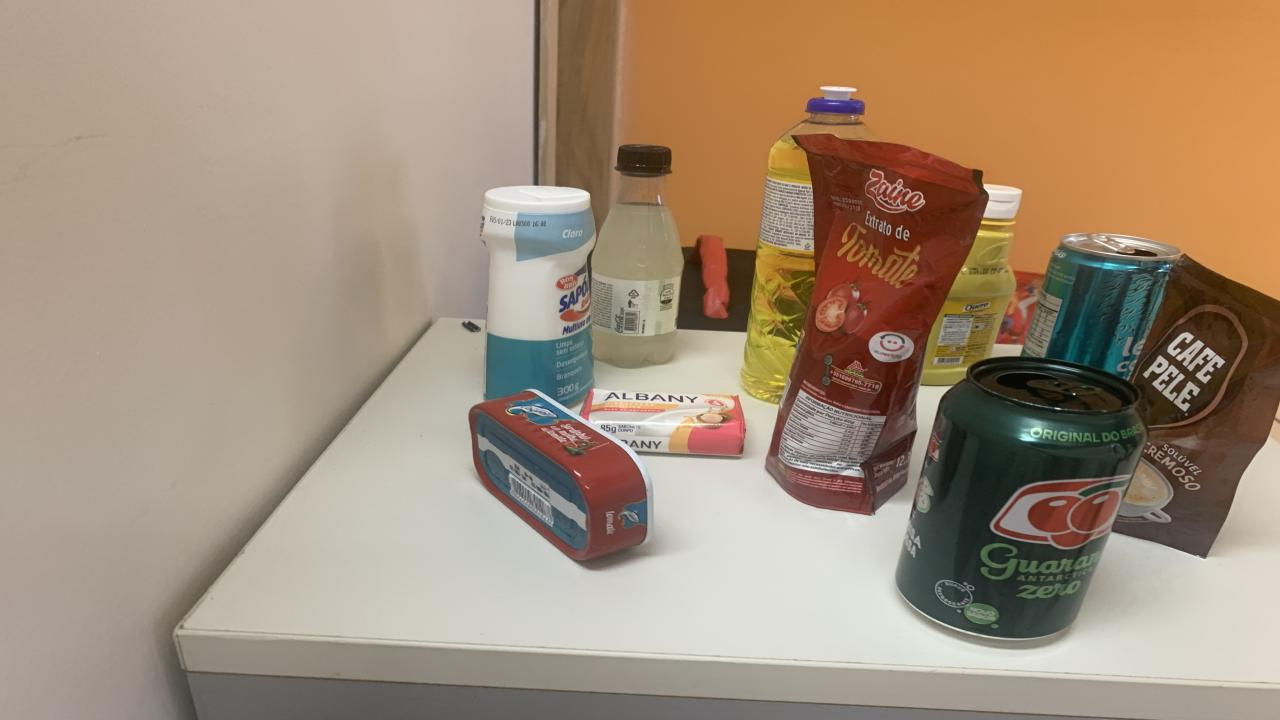Cleaner-Cleanup_Items: (480, 186, 595, 405)
Coffee-Pantry_Items: (1115, 257, 1280, 555)
Detergent-Cleanup_Items: (740, 86, 878, 403)
Guarana_Can-Drinks: (895, 356, 1148, 639)
Mustard-Pantry_Items: (922, 186, 1020, 384)
Soap-Cleanup_Items: (582, 388, 745, 456)
Soda-Drinks: (590, 144, 682, 368)
Tea-Drinks: (1022, 232, 1180, 379)
Tomato_Sauce-Pantry_Items: (765, 133, 988, 514)
Tuna_Can-Pantry_Items: (470, 390, 652, 561)
